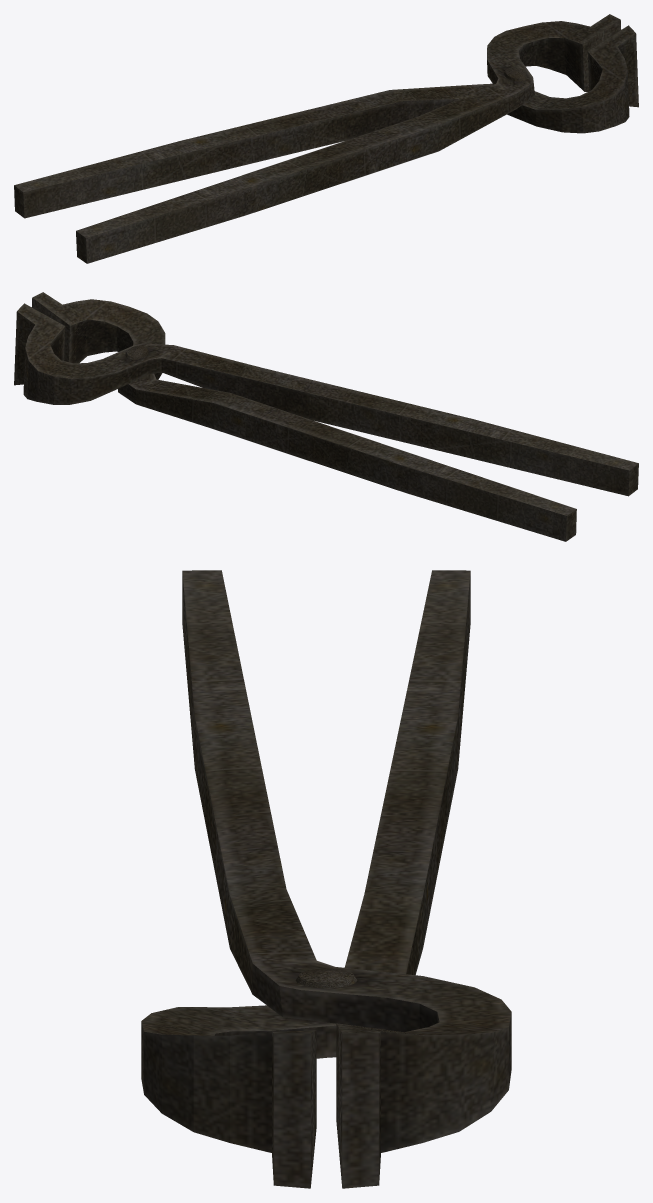
File: Pilers_MPI01_fbx.fbx
3 views of the same model, one above another, from view 1: azimuth 30°, elevation 25°; view 2: azimuth 150°, elevation 25°; view 3: azimuth 270°, elevation 25° (orthographic). The views are drawn at different scales.
Parts seen in each view (by area): view 1: pliersL; view 2: pliersL; view 3: pliersL.
Part boxes in pixels (bbox=[...]): pliersL: bbox=[14, 14, 638, 263]; pliersL: bbox=[14, 292, 638, 541]; pliersL: bbox=[141, 570, 511, 1188].
Size of the model in its own units: 19.94 by 2.51 by 5.53.
1 material, 1 textured.
